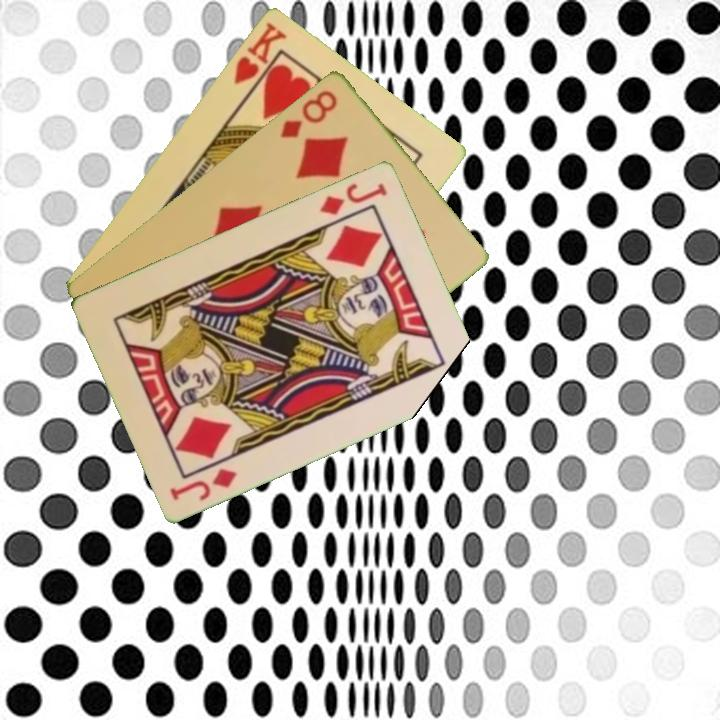8d: (276, 86, 341, 141)
Jd: (316, 178, 391, 218), (167, 463, 240, 504)
Kh: (230, 18, 290, 99)
